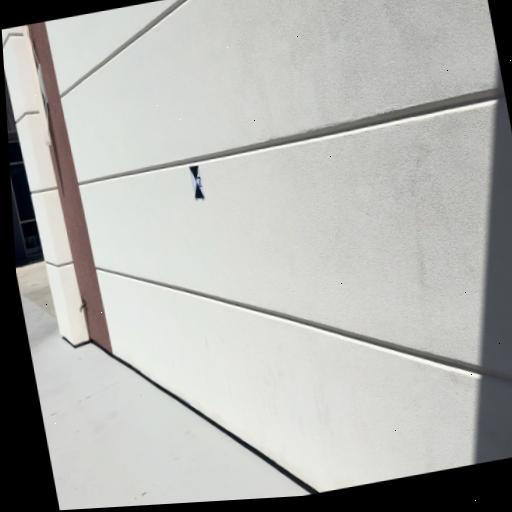target7: (189, 164, 205, 199)
